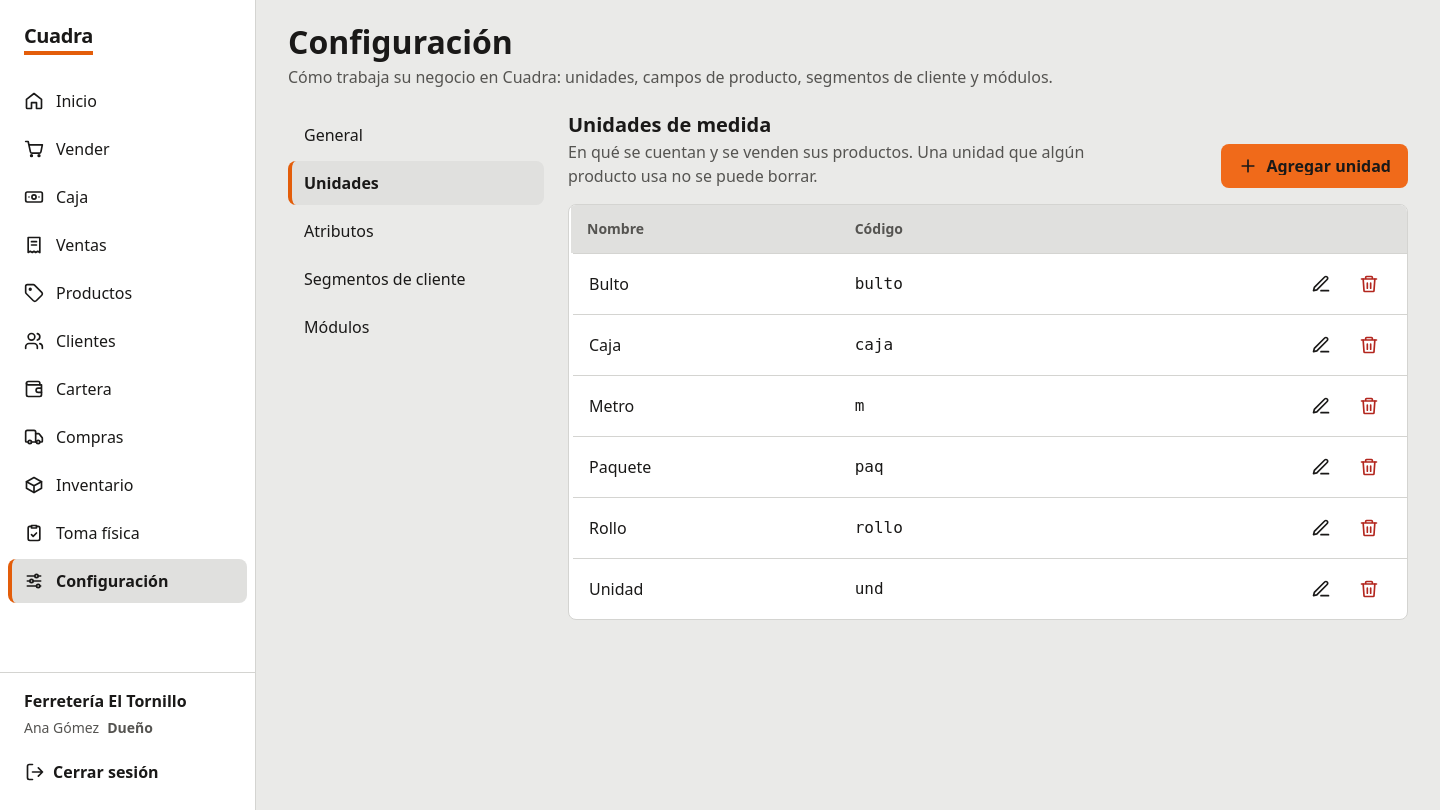
Test: UnitsSettings › borra una unidad después de confirmar y la quita de la lista
This screenshot has width=1440, height=810.
Click the button named "Borrar Bulto" at (1369, 284), box [1347,262,1391,306]
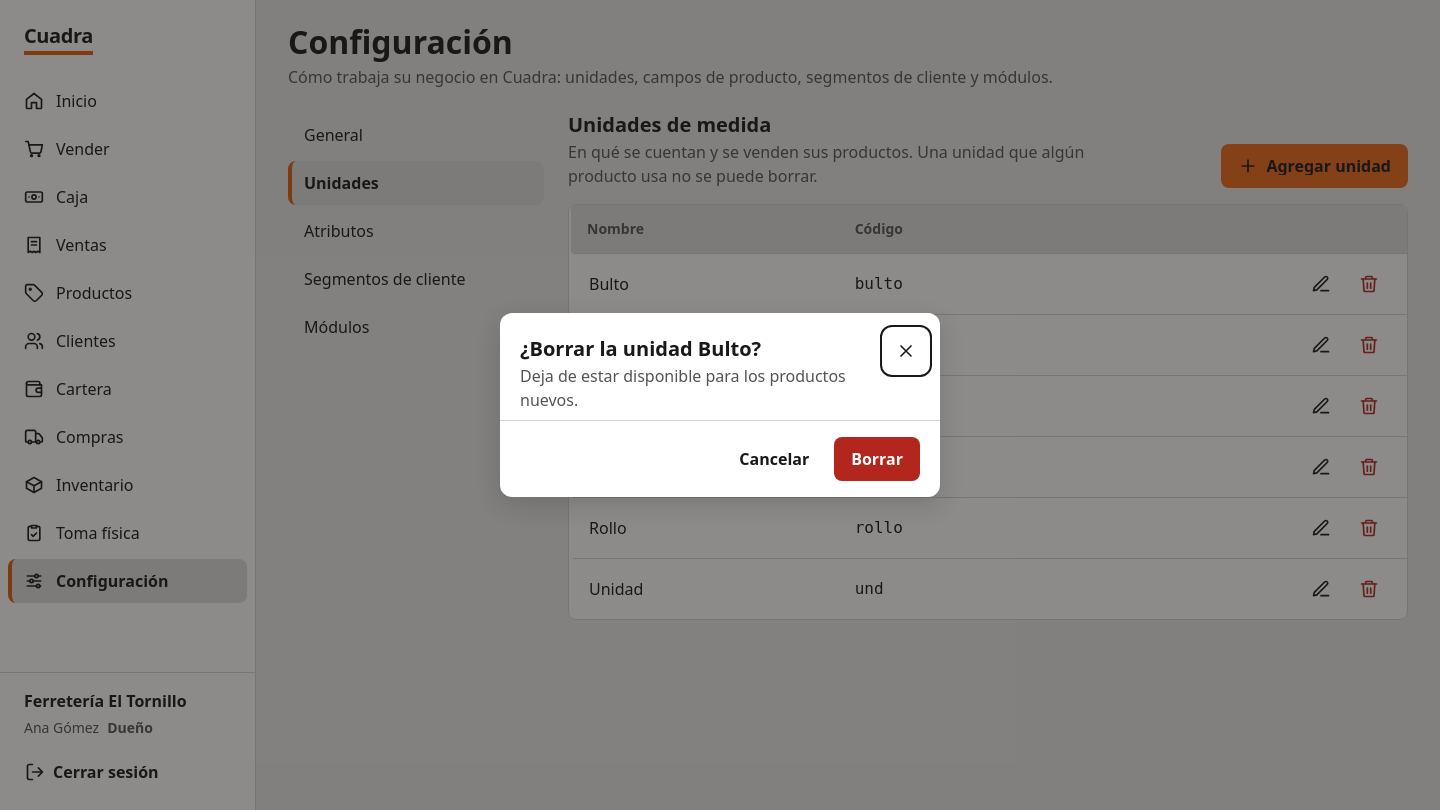
Click the button "Borrar" at (877, 459), box [834,437,920,481]
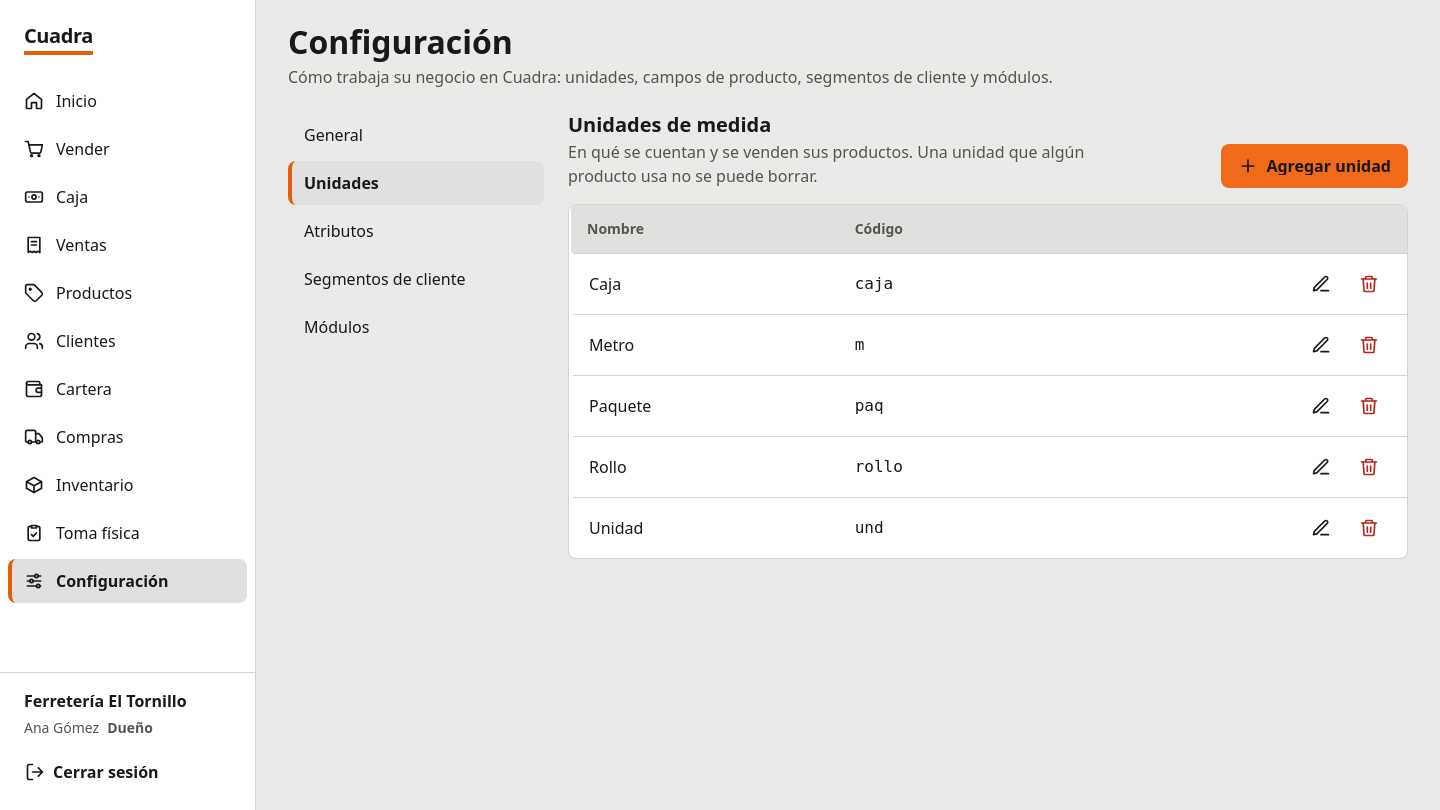
Expected: the cell "Bulto" is gone
